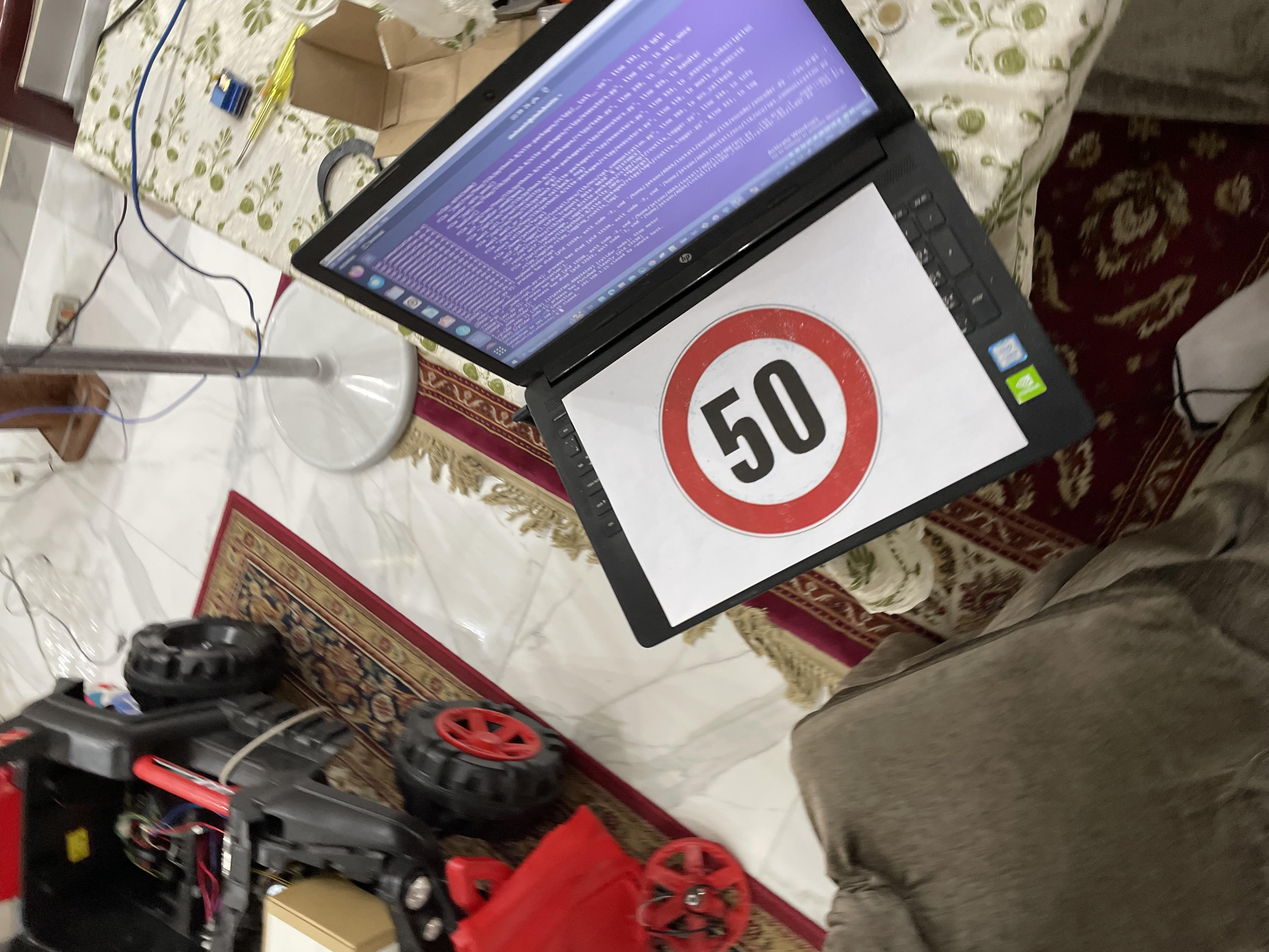50-Speed: (538, 485, 868, 662)
